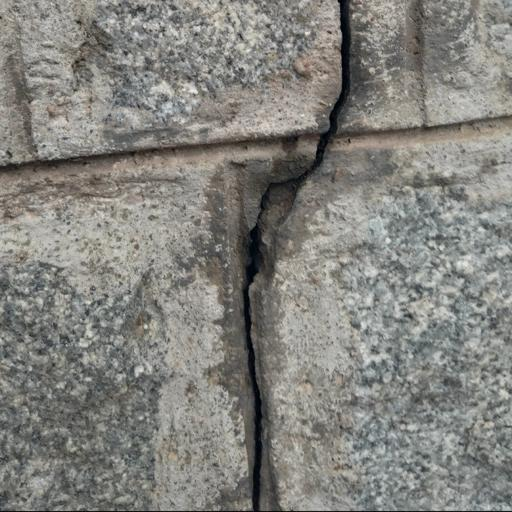major_crack: (225, 0, 362, 512)
